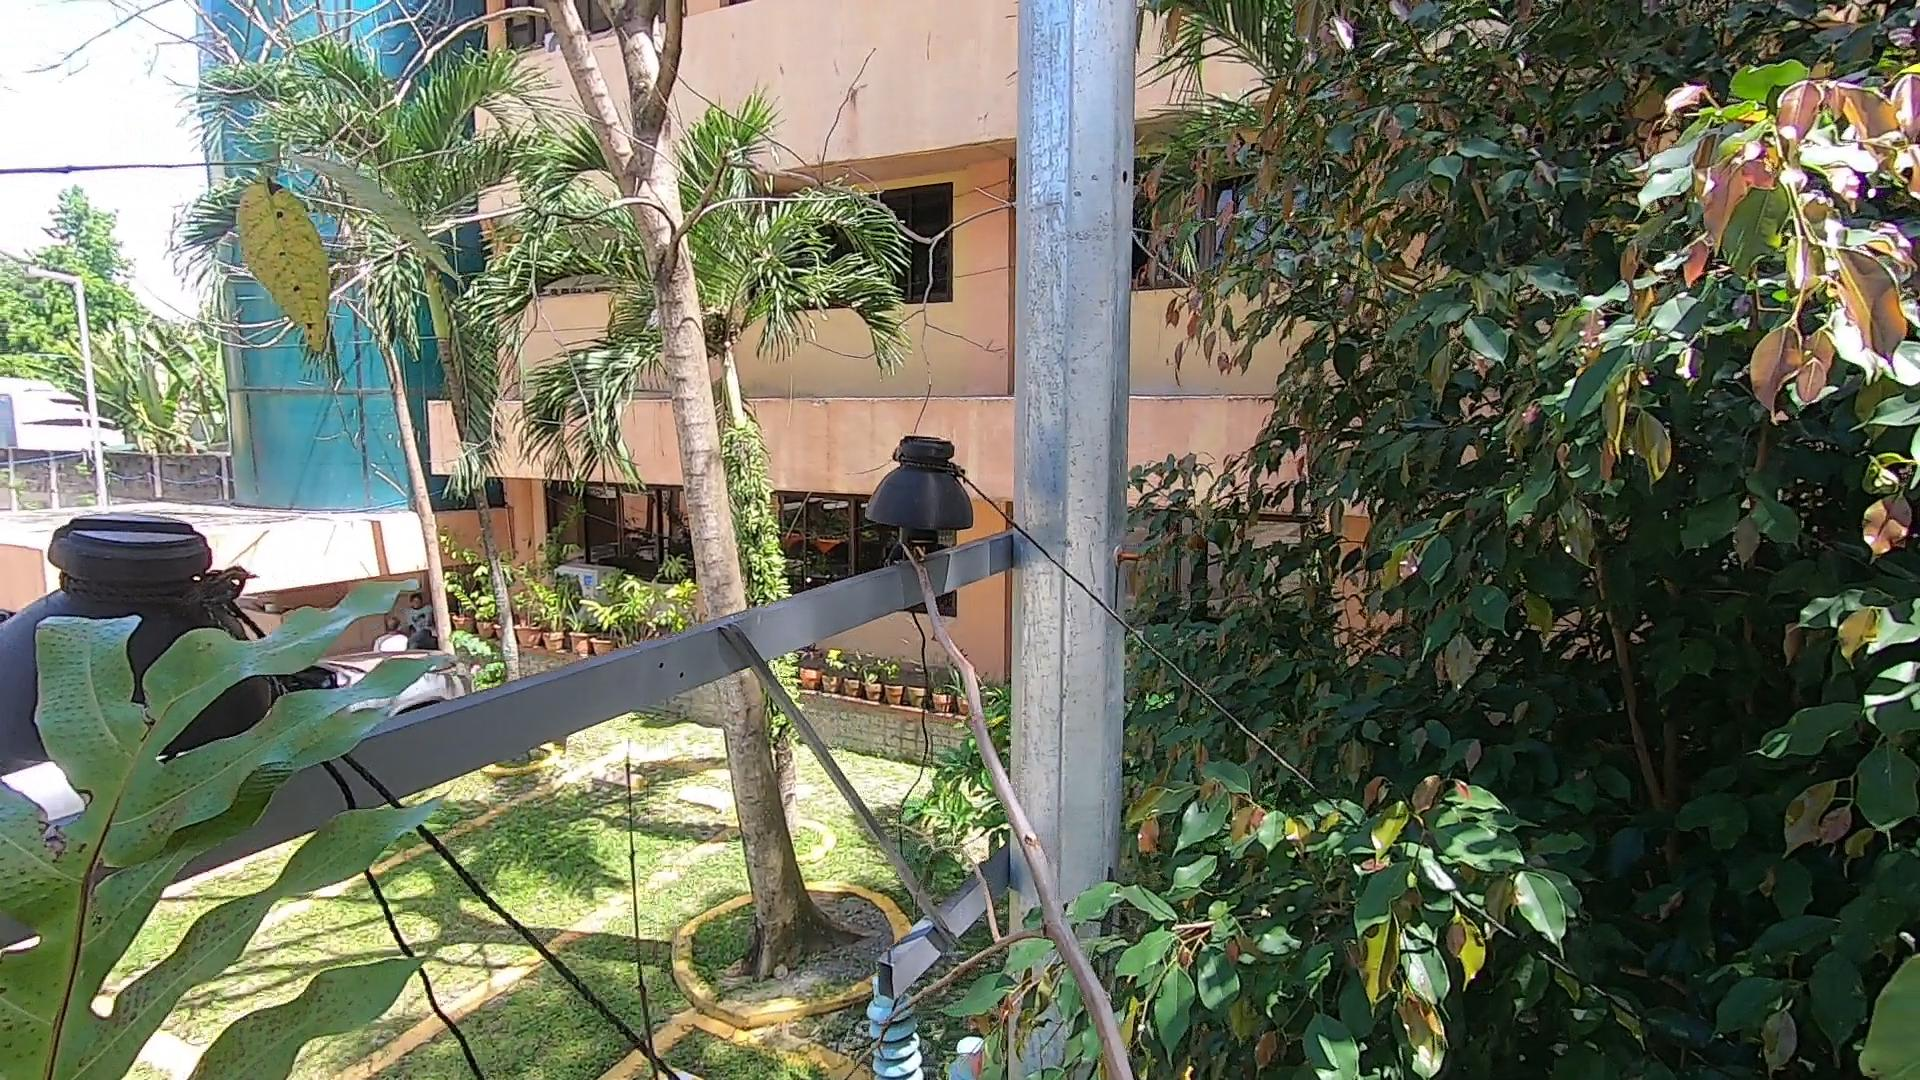branch with leaves: (992, 886, 1234, 1080)
leaf: (16, 538, 406, 1030)
tree branch: (870, 527, 1185, 1080)
